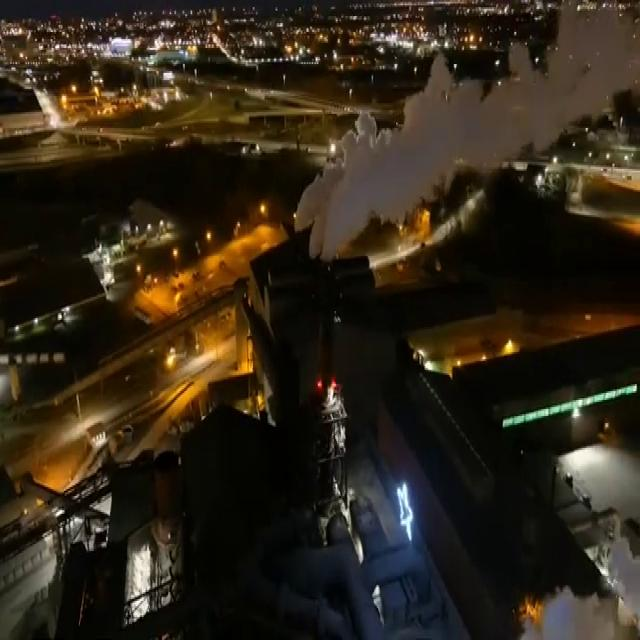smoke: (294, 7, 640, 261), (562, 510, 640, 638)
